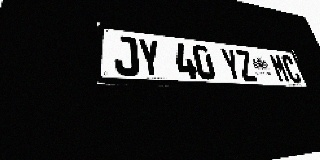0: (191, 44, 216, 80)
4: (173, 42, 198, 79)
C: (280, 55, 303, 83)
J: (114, 35, 140, 76)
M: (268, 53, 291, 83)
Y: (137, 38, 163, 77), (219, 48, 243, 81)
Z: (234, 49, 258, 82)
